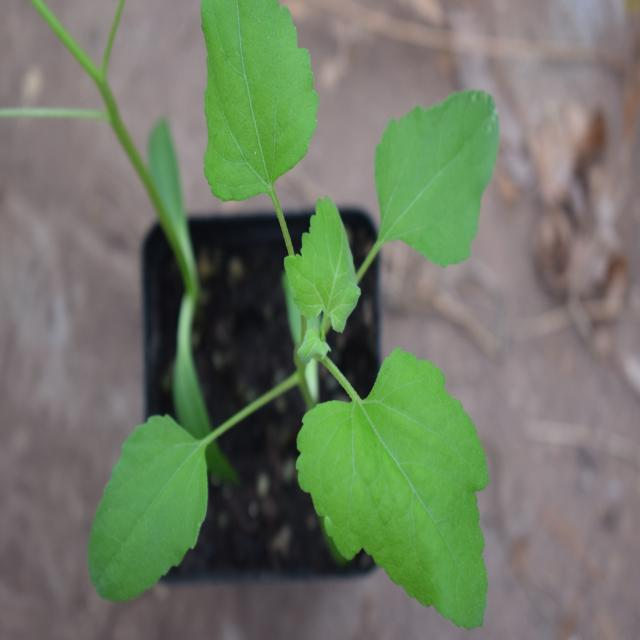cocklebur: (108, 11, 501, 615)
